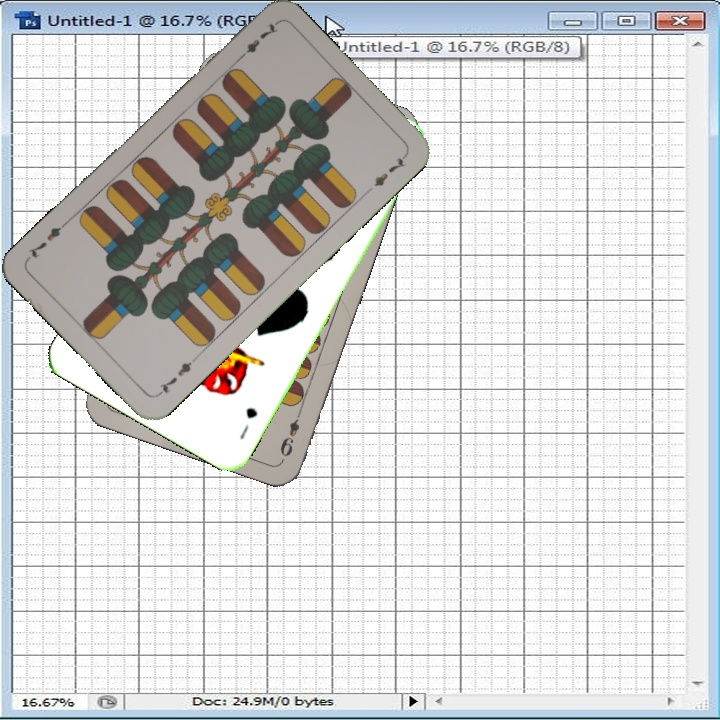E7: (233, 19, 281, 64), (153, 357, 194, 399)
E9: (276, 405, 305, 460)
GU: (235, 403, 261, 442)
